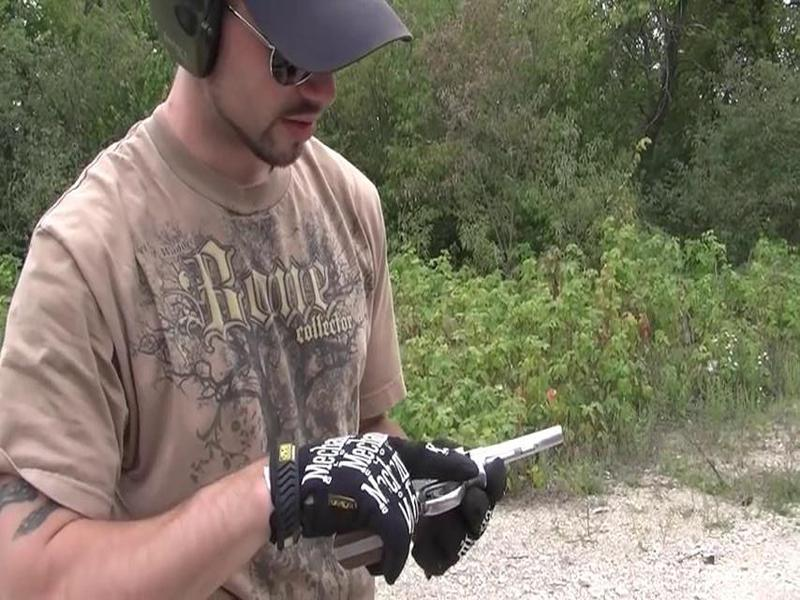Revolver: (333, 441, 580, 567)
